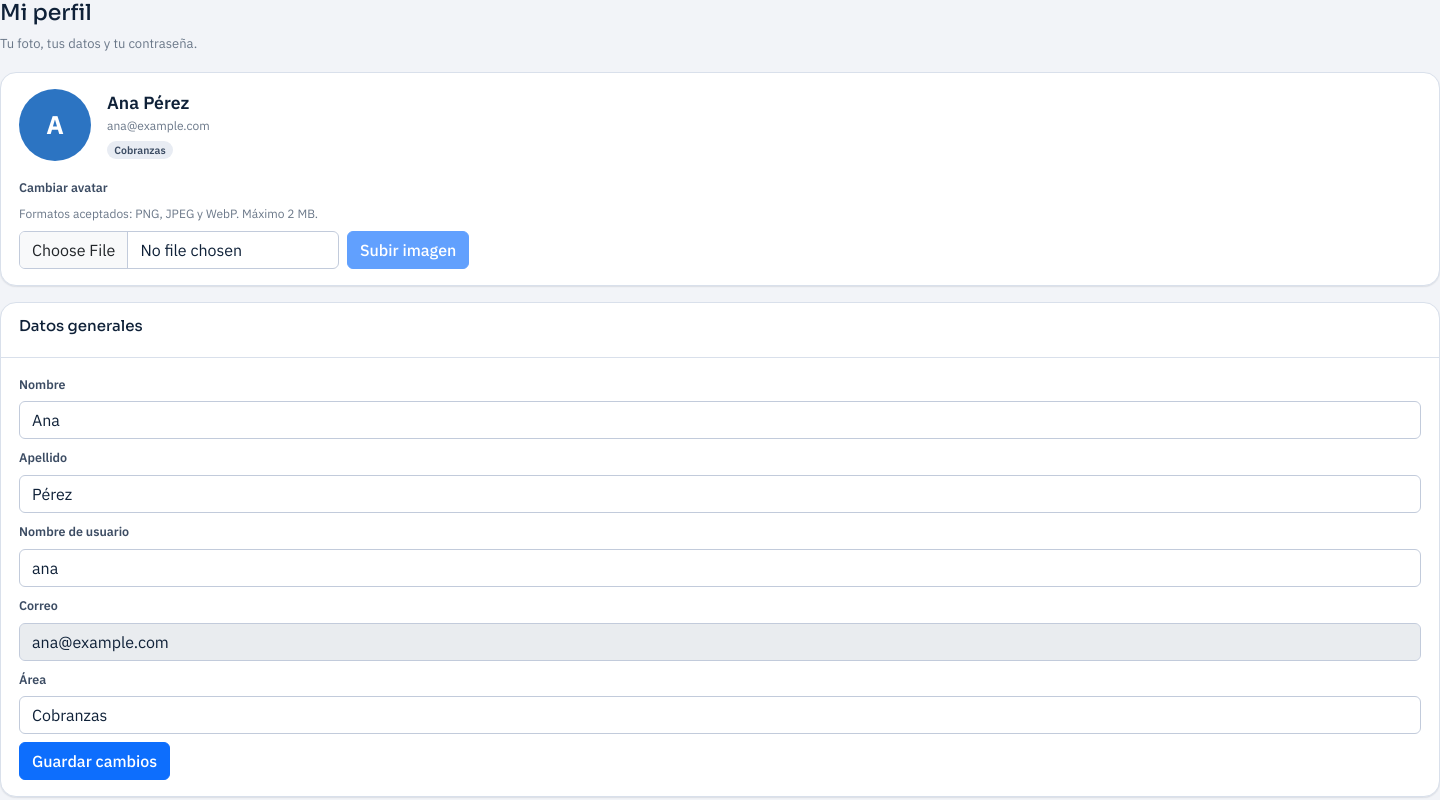
Test case: ProfilePage › si el nombre de usuario ya está en uso, muestra el mensaje de error del backend
Replace the text in the field labelled "Nombre de usuario" with "beto" at (720, 568), box [19,549,1421,587]
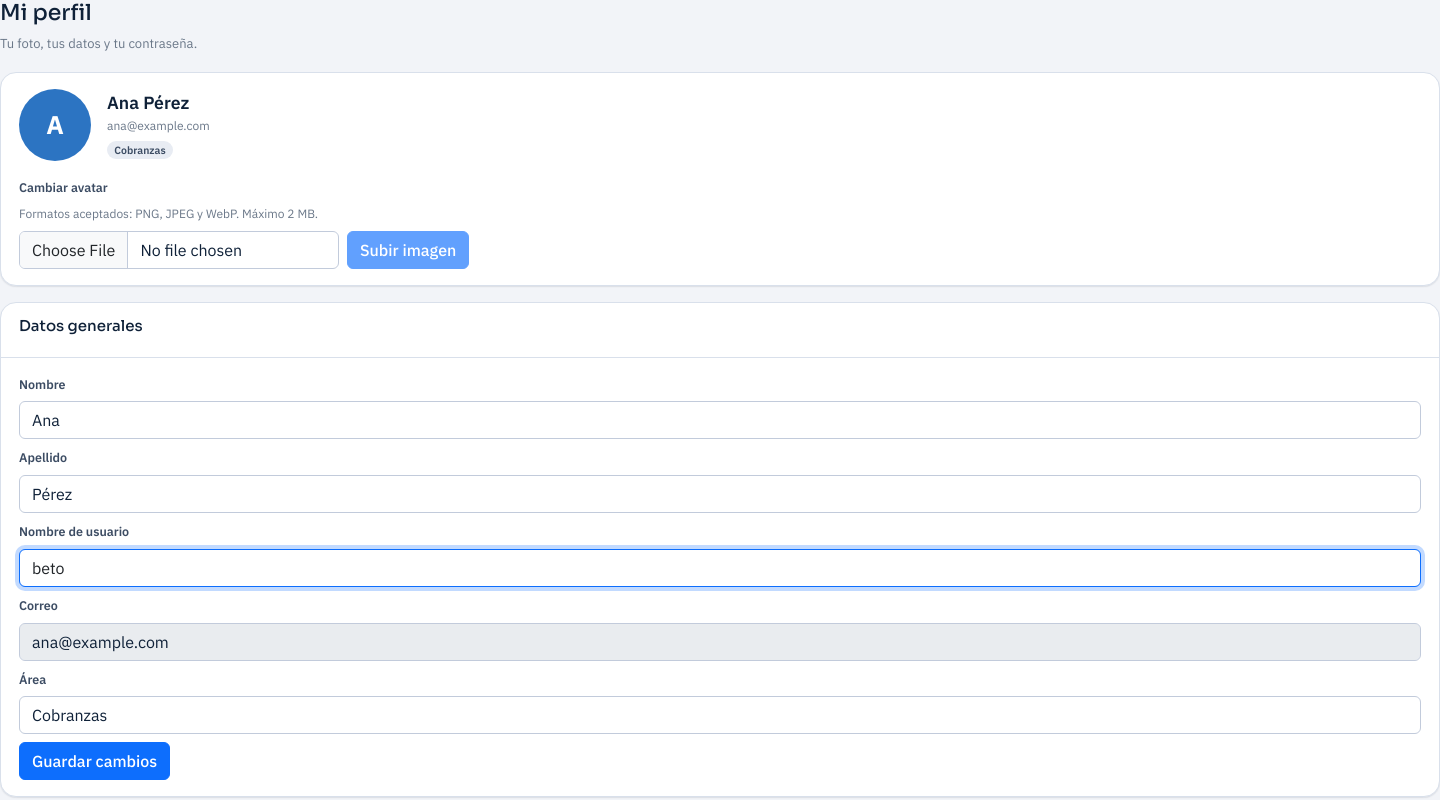
Click the button "Guardar cambios" at (95, 761), box [19,742,170,780]
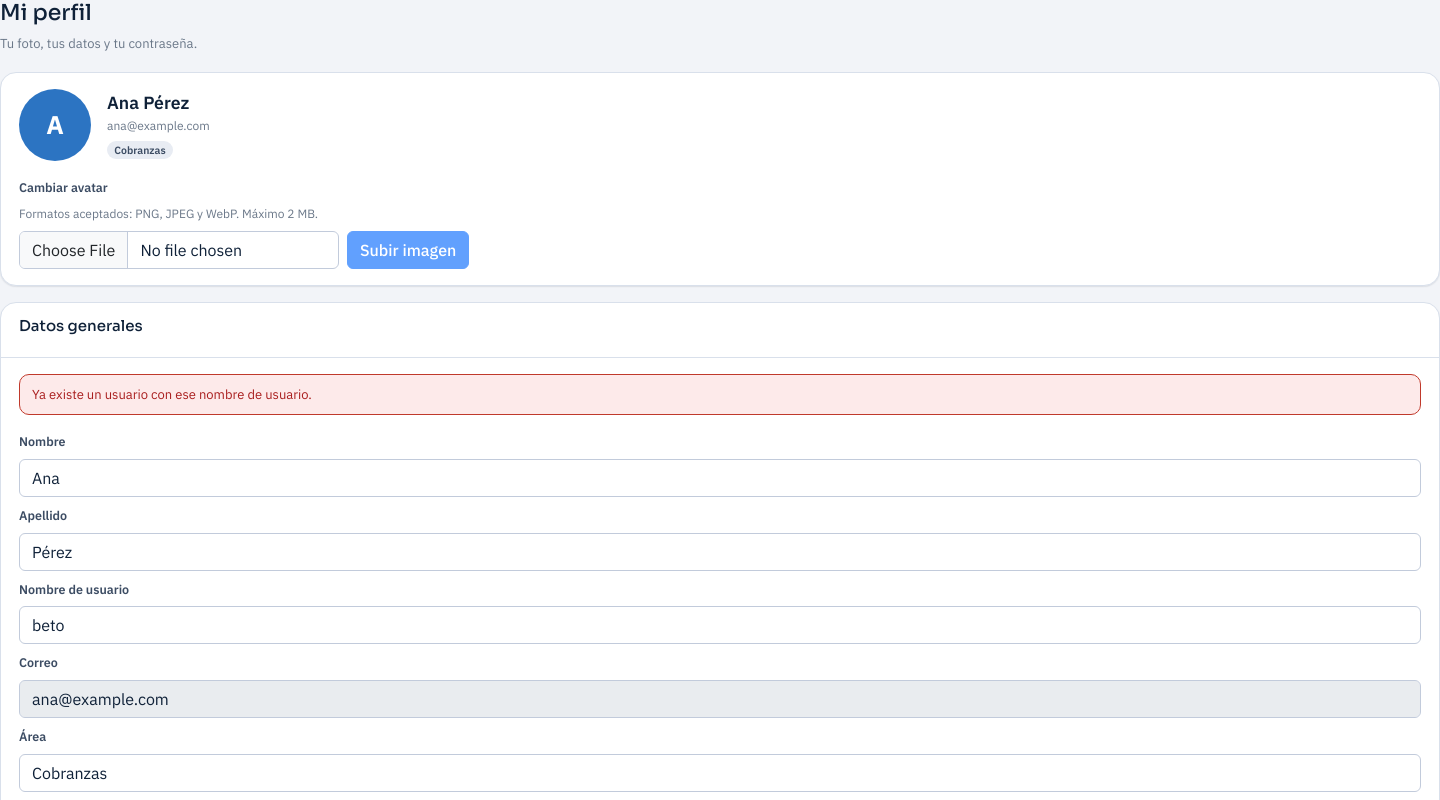
Check: the text "Ya existe un usuario con ese nombre de usuario." is shown, box [19,374,1421,415]
